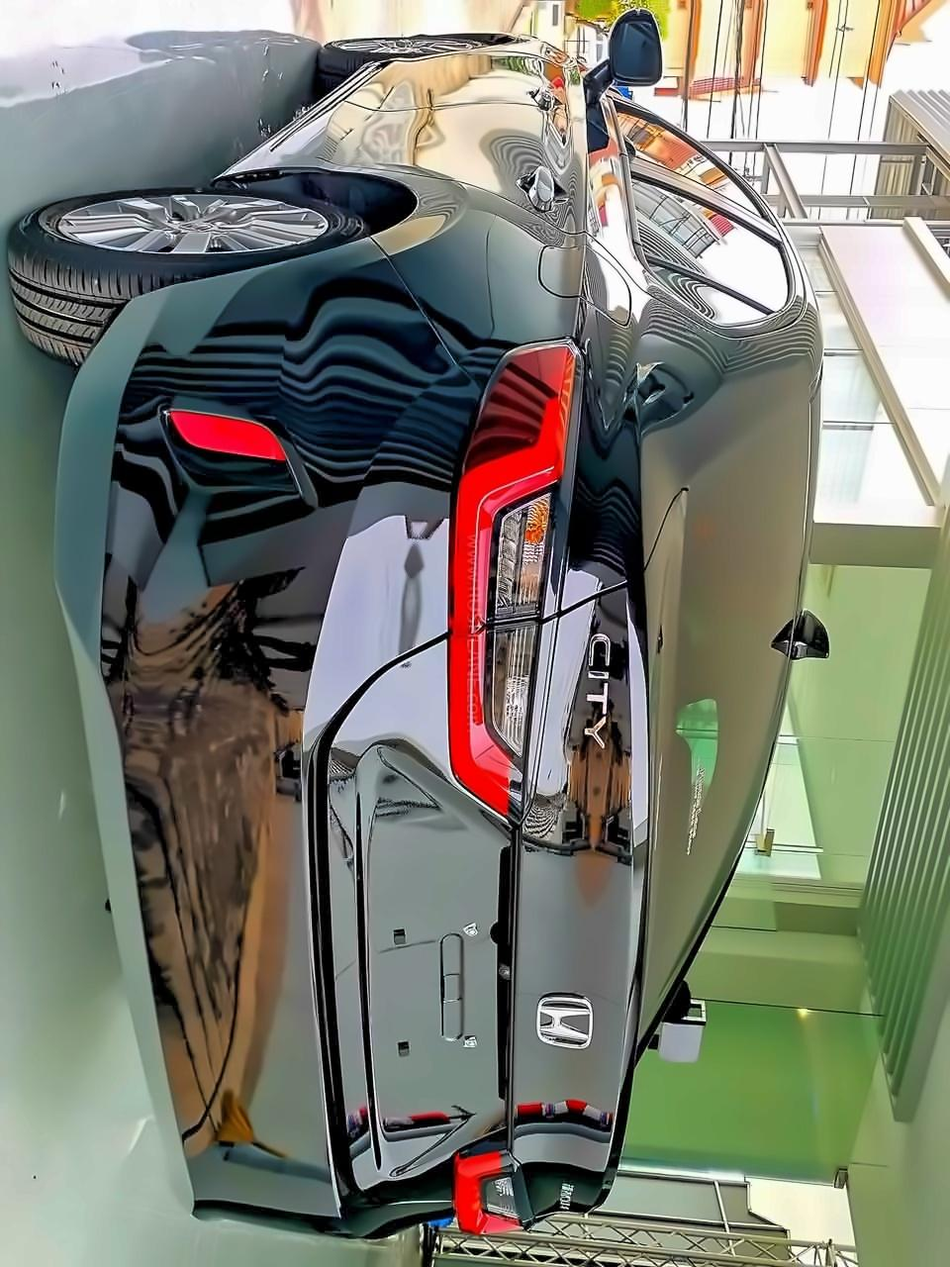Car boot: (294, 466, 698, 1219)
Fender - -R-L-: (327, 169, 635, 379)
Passenger-s door - -F-L-: (246, 53, 779, 217)
Passenger-s door - -R-L-: (235, 112, 800, 286)
Rear bumper: (40, 228, 476, 1252)
Rear light - -L-: (439, 324, 602, 847)
Rear light - -R-: (436, 1142, 545, 1249)
Side bumper - -L-: (192, 47, 395, 208)
Side mirror - -L-: (574, 7, 680, 127)
